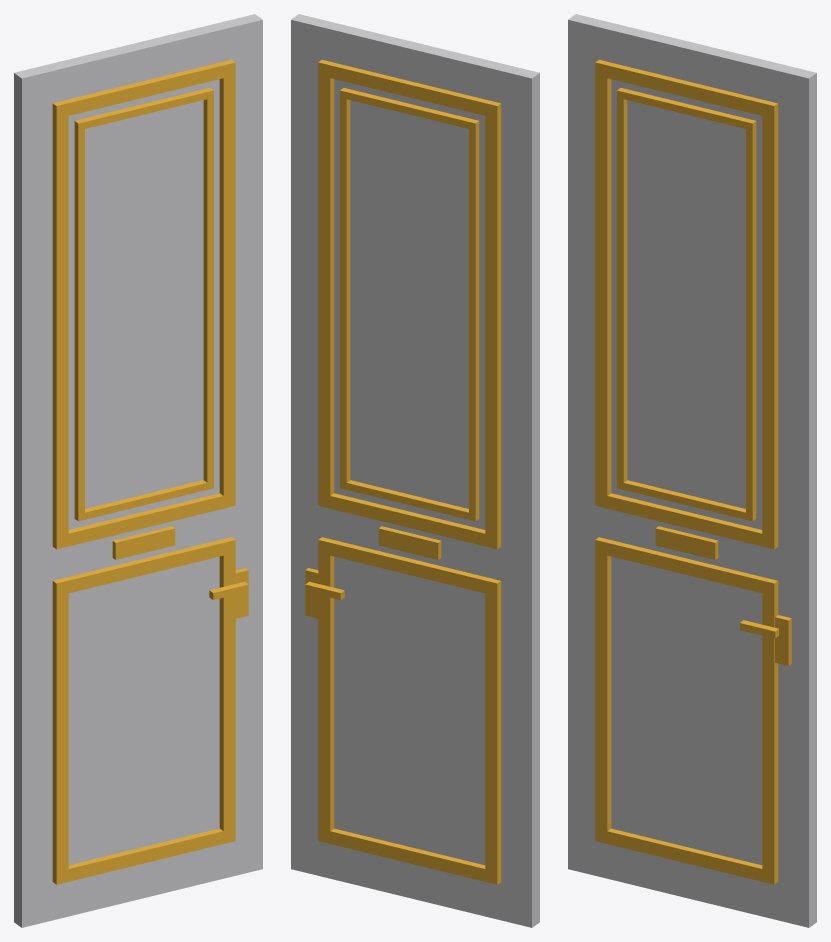
Rendered from SM_Door_obelisk_inner_90x300.fbx.
The picture shows the model from 3 angles, left to right: view 1: azimuth 30°, elevation 25°; view 2: azimuth 150°, elevation 25°; view 3: azimuth 330°, elevation 25°; orthographic projection.
Parts seen in each view (by area): view 1: SM_Door_obelisk_inner_90x300; view 2: SM_Door_obelisk_inner_90x300; view 3: SM_Door_obelisk_inner_90x300.
Boxes of the visible parts, x1,y1,x2,y2 form: SM_Door_obelisk_inner_90x300: [14, 14, 262, 927]; SM_Door_obelisk_inner_90x300: [291, 14, 539, 927]; SM_Door_obelisk_inner_90x300: [568, 14, 816, 927].
Size of the model in its own units: 0.888 by 2.99 by 0.175.
